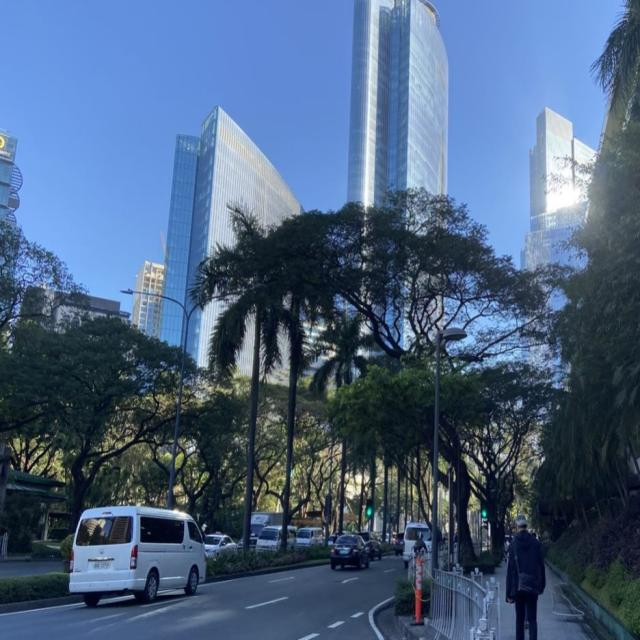Acacia: (298, 165, 546, 581), (4, 298, 205, 500)
